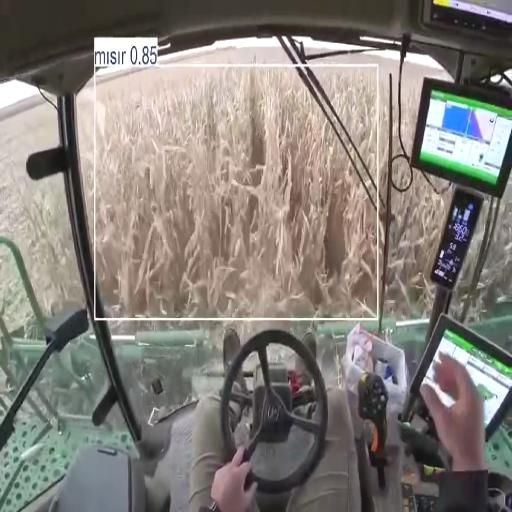misir: (77, 48, 450, 319), (455, 191, 511, 316)
